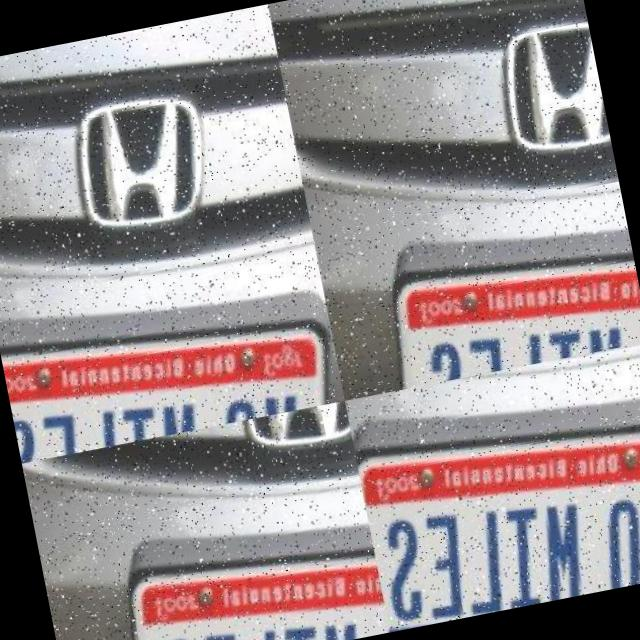LicensePlate: (366, 448, 640, 632), (180, 164, 319, 290)
